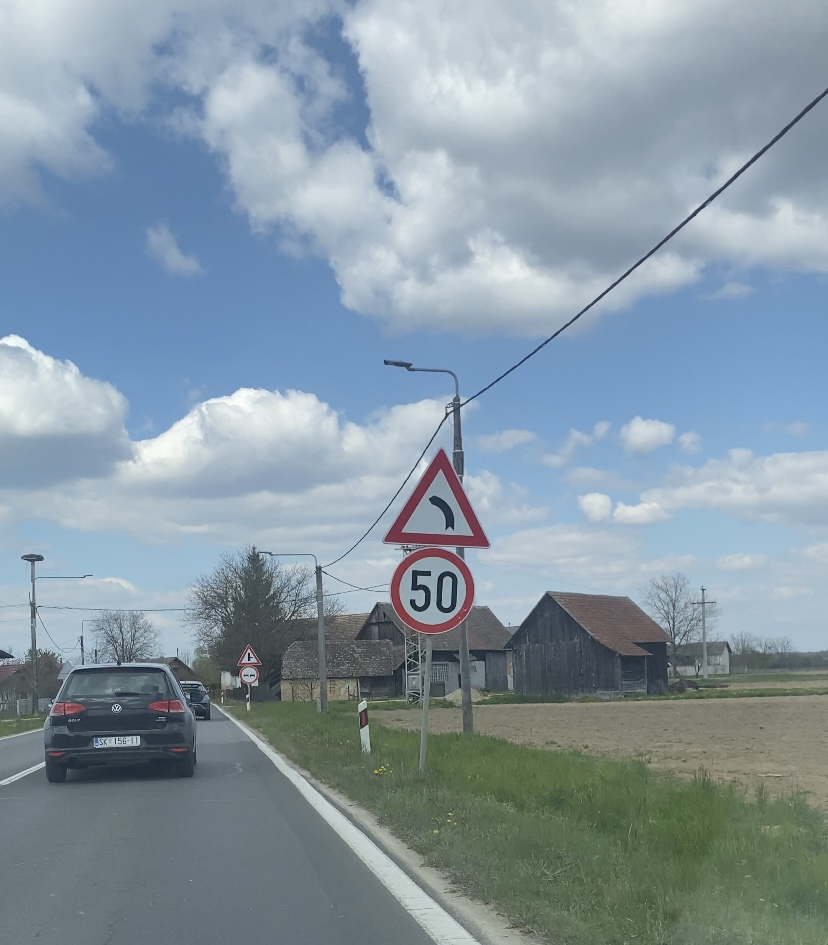Ograničenje brzine 50: (390, 546, 475, 634)
Zabrana pretjecanja: (240, 665, 259, 684)
